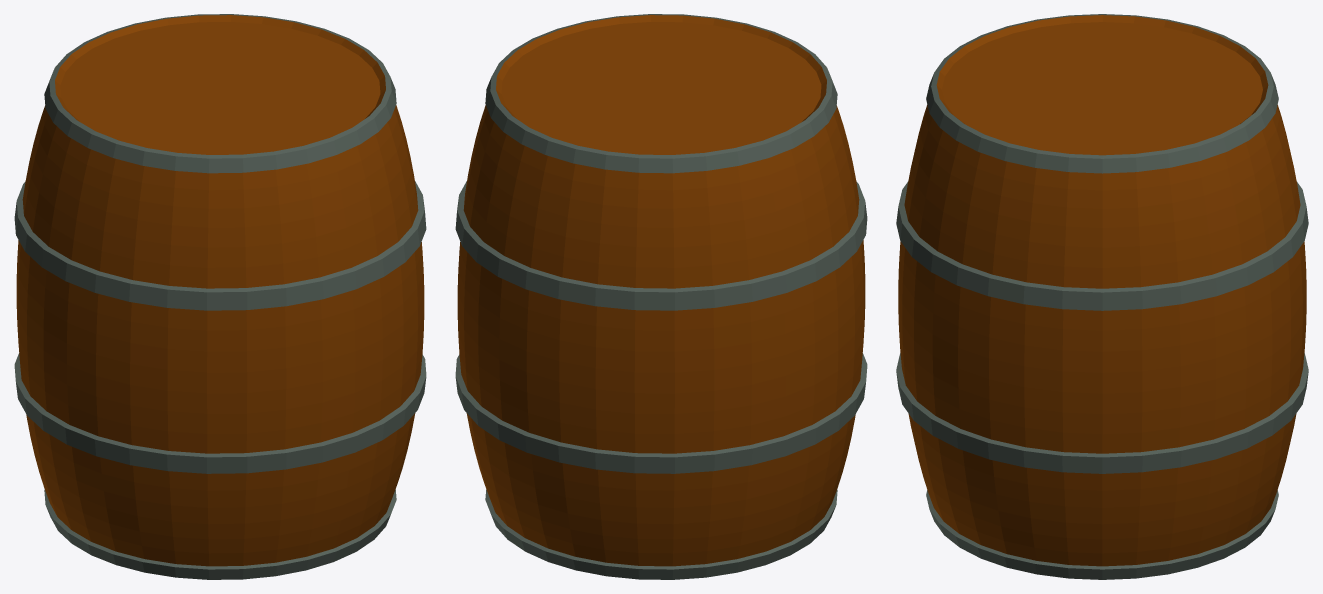
File: Tong.fbx
3 renders of one model, left to right at view 1: azimuth 30°, elevation 25°; view 2: azimuth 150°, elevation 25°; view 3: azimuth 270°, elevation 25°, orthographic.
Visible parts, largest first — view 1: Cylinder, Cylinder.001; view 2: Cylinder, Cylinder.001; view 3: Cylinder, Cylinder.001.
Boxes of the visible parts, x1,y1,x2,y2 form: Cylinder: (16, 15, 424, 566); Cylinder.001: (14, 14, 426, 579); Cylinder: (457, 15, 865, 566); Cylinder.001: (455, 14, 867, 579); Cylinder: (898, 15, 1306, 566); Cylinder.001: (896, 14, 1308, 579).
Bounding box in the file's own units: 249 × 282 × 249.
